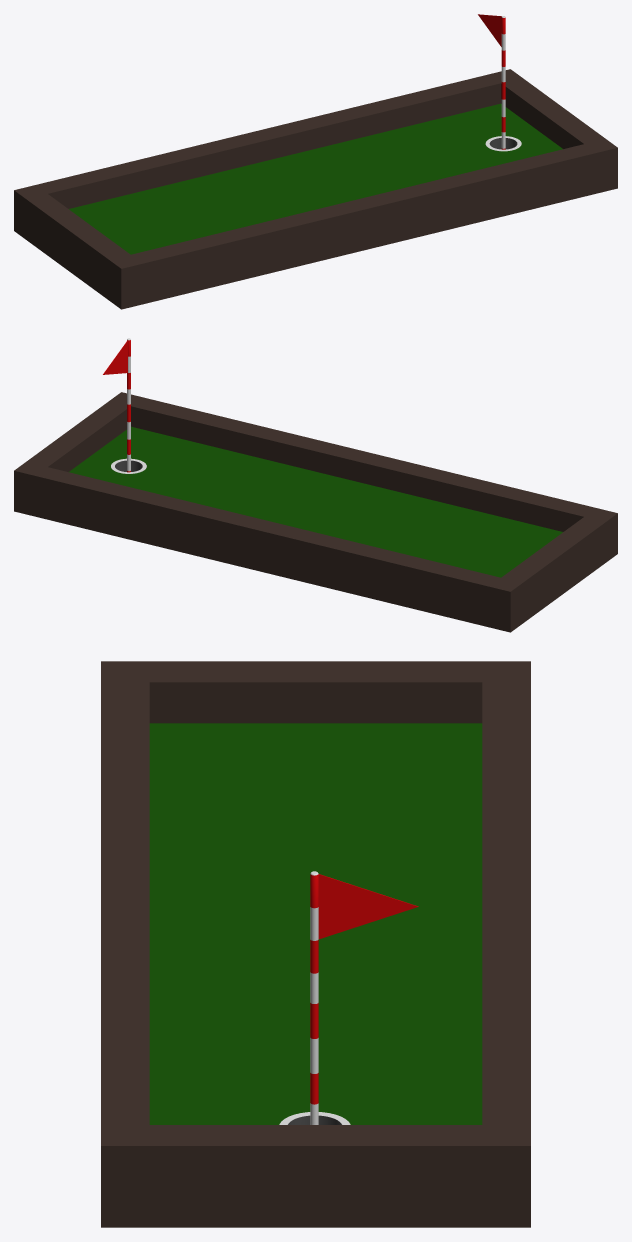
Rendered from Tutorial Course.fbx.
The picture shows the model from 3 angles, top to bottom: view 1: azimuth 30°, elevation 25°; view 2: azimuth 150°, elevation 25°; view 3: azimuth 270°, elevation 25°; orthographic projection. The views are drawn at different scales.
Visible parts, largest first — view 1: Course, CourseGround, Pole, Hole; view 2: Course, CourseGround, Pole; view 3: CourseGround, Course, Pole.
Part boxes in pixels (x1=…): Course: x1=14, y1=69, x2=617, y2=309; CourseGround: x1=69, y1=103, x2=562, y2=254; Pole: x1=478, y1=14, x2=505, y2=149; Hole: x1=485, y1=136, x2=521, y2=151; Course: x1=14, y1=392, x2=617, y2=632; CourseGround: x1=69, y1=426, x2=562, y2=577; Pole: x1=103, y1=338, x2=130, y2=472; CourseGround: x1=149, y1=723, x2=482, y2=1124; Course: x1=101, y1=661, x2=530, y2=1227; Pole: x1=310, y1=871, x2=418, y2=1124.
Size of the model in its own units: 1303 by 400 by 488.
